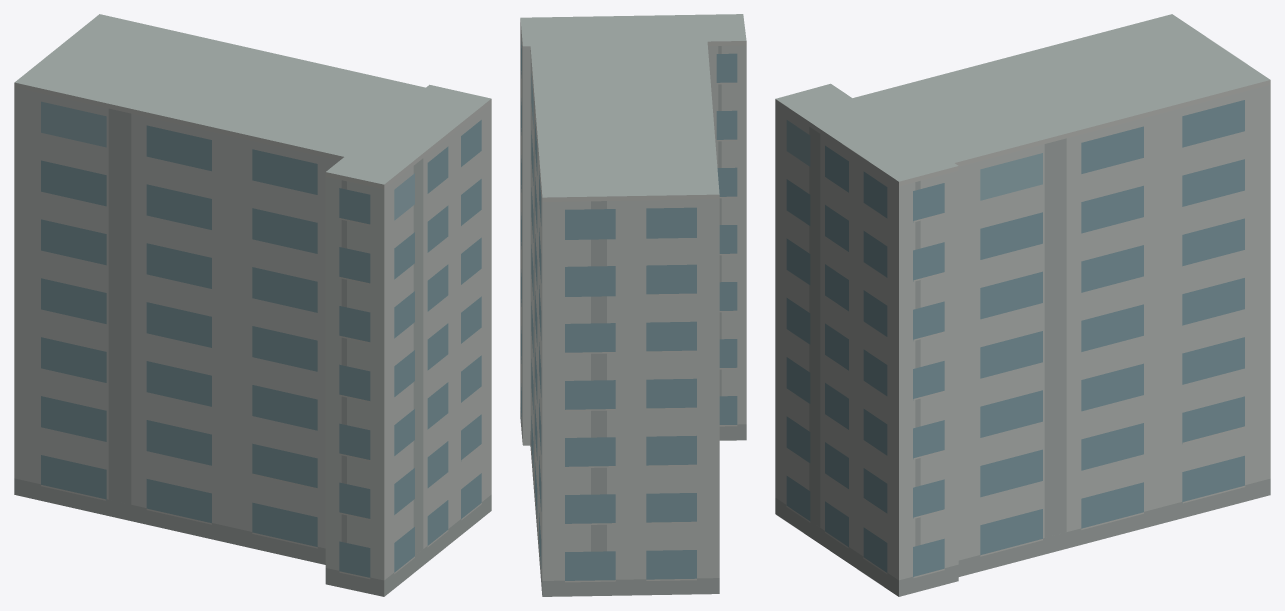
The model's file is survey-upis-32970275.glb.
3 renders of one model, left to right at view 1: azimuth 30°, elevation 25°; view 2: azimuth 150°, elevation 25°; view 3: azimuth 270°, elevation 25°, orthographic. The views are drawn at different scales.
Visible parts, largest first — view 1: survey-upis-32970275.tmp; view 2: survey-upis-32970275.tmp; view 3: survey-upis-32970275.tmp.
Part boxes in pixels (<box>): survey-upis-32970275.tmp: <box>14,14,491,596</box>; survey-upis-32970275.tmp: <box>520,14,746,596</box>; survey-upis-32970275.tmp: <box>775,14,1270,596</box>.
Bounding box in the file's own units: 18.38 × 21.2 × 22.94.
